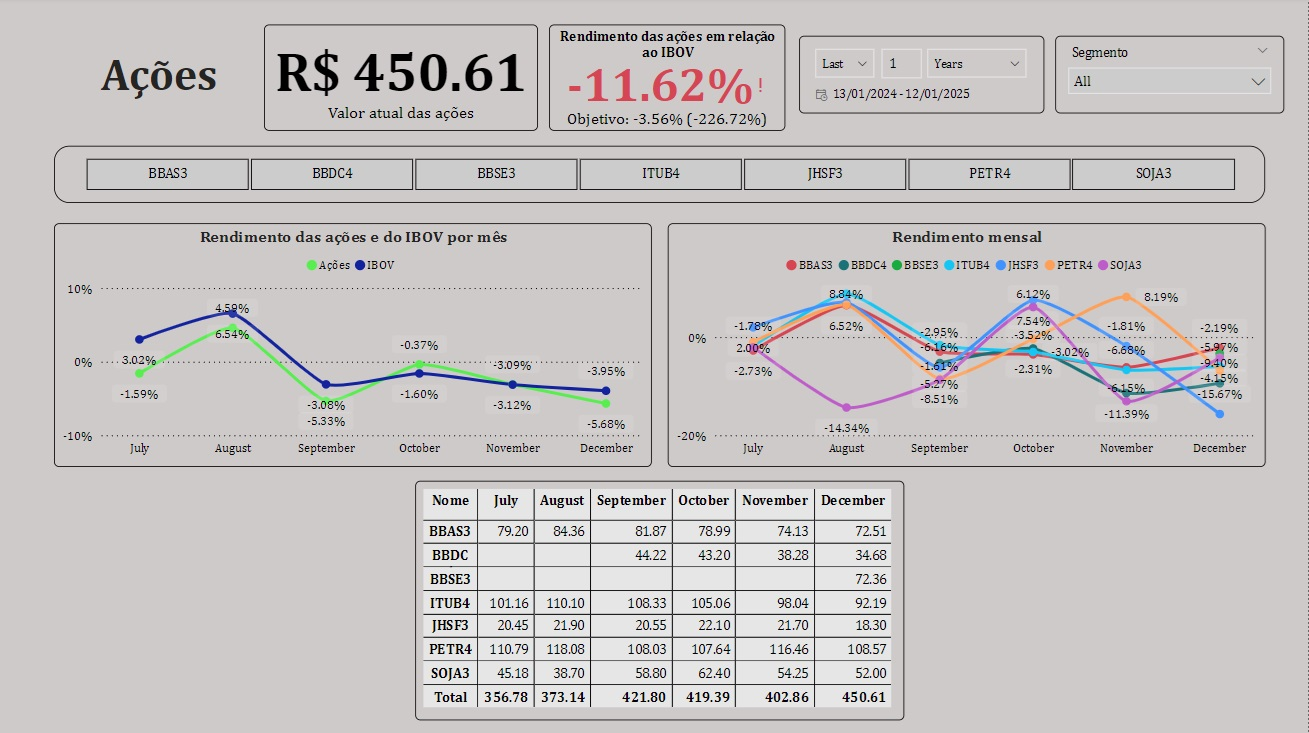

This screenshot's page, from the dashboard's own definition file:
{"tool":"powerbi","page":{"name":"Ações","canvas":[1280,720],"ordinal":3},"visuals":[{"type":"card","fields":{"Values":["Max(Visao_Geral.Valor_Atual)"]},"box":[259.2,26.9,267.8,103.9],"z":0},{"type":"textbox","box":[53.8,45.2,205.4,68.5],"z":1000},{"type":"slicer","fields":{"Values":["Report_Mensal_Single.Nome"]},"box":[53.8,145.5,1184.9,56.3],"z":2000},{"type":"slicer","fields":{"Values":["Invest_Acao.Tipo"]},"box":[1268.1,708,12.2,12.2],"z":3000},{"type":"slicer","fields":{"Values":["Visao_Geral.Tipo"]},"box":[1268.1,708,12.2,12.2],"z":4000},{"type":"slicer","fields":{"Values":["Invest_Acao.Segmento"]},"box":[1033.3,37.9,223.8,75.8],"z":5000},{"type":"pivotTable","fields":{"Columns":["IBOV_IPCA.Mês.Variation.Date Hierarchy.Year","IBOV_IPCA.Mês.Variation.Date Hierarchy.Month"],"Rows":["Report_Mensal_Single.Nome"],"Values":["Sum(Report_Mensal_Single.Valor_Final)"]},"box":[407.2,473.2,478.1,234.8],"z":6000},{"type":"lineChart","title":"Rendimento das ações e do IBOV por mês","fields":{"Category":["IBOV_IPCA.Mês.Variation.Date Hierarchy.Year","IBOV_IPCA.Mês.Variation.Date Hierarchy.Month"],"Y":["Sum(IBOV_IPCA.Rend_Acoes)","Sum(IBOV_IPCA.IBOV)"]},"box":[53.8,221.3,584.5,238.5],"z":7000},{"type":"lineChart","title":"Rendimento mensal","fields":{"Category":["IBOV_IPCA.Mês.Variation.Date Hierarchy.Year","IBOV_IPCA.Mês.Variation.Date Hierarchy.Month"],"Y":["Sum(Report_Mensal_Single.%Rend)"],"Series":["Report_Mensal_Single.Nome"]},"box":[654.2,221.3,584.5,238.5],"z":8000},{"type":"slicer","fields":{"Values":["IBOV_IPCA.Mês"]},"box":[782.6,37.9,239.7,75.8],"z":9000},{"type":"kpi","title":"Rendimento das ações em relação ao IBOV","fields":{"TrendLine":["KPI_Anual.Ano"],"Indicator":["Sum(KPI_Anual.Rend_Acoes)"],"Goal":["Sum(KPI_Anual.IBOV)"]},"box":[538,26.9,231.1,103.9],"z":10000}]}

Visuals, with their boxes in screenshot pixels (x1, y1, x2, y2), scaled from the page's 1280x720 canvas onto the 1309x733 screenshot:
card - Max(Visao_Geral.Valor_Atual): crop(265, 27, 539, 133)
textbox: crop(55, 46, 265, 116)
slicer - Report_Mensal_Single.Nome: crop(55, 148, 1267, 205)
slicer - Invest_Acao.Tipo: crop(1297, 721, 1308, 732)
slicer - Visao_Geral.Tipo: crop(1297, 721, 1308, 732)
slicer - Invest_Acao.Segmento: crop(1057, 39, 1286, 116)
pivotTable - IBOV_IPCA.Mês.Variation.Date Hierarchy.Year x IBOV_IPCA.Mês.Variation.Date Hierarchy.Month: crop(416, 482, 905, 721)
"Rendimento das ações e do IBOV por mês" lineChart: crop(55, 225, 653, 468)
"Rendimento mensal" lineChart: crop(669, 225, 1267, 468)
slicer - IBOV_IPCA.Mês: crop(800, 39, 1045, 116)
"Rendimento das ações em relação ao IBOV" kpi: crop(550, 27, 787, 133)
